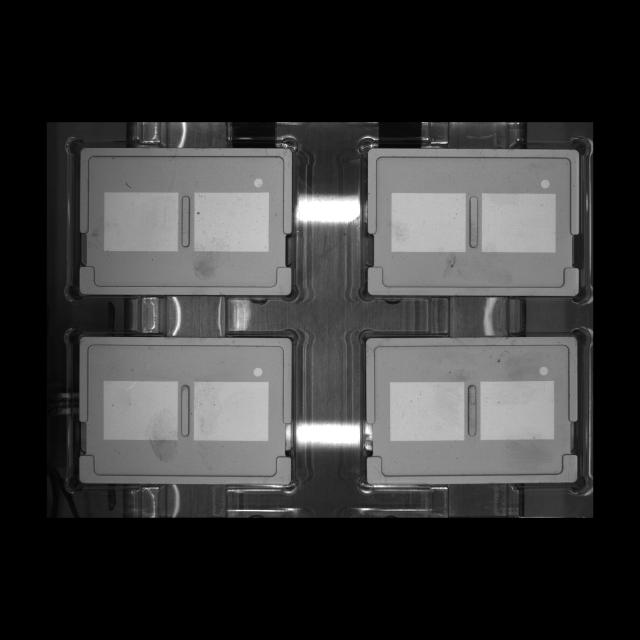product: (64, 324, 301, 493), (357, 136, 591, 306), (356, 326, 590, 494), (67, 137, 301, 303)
